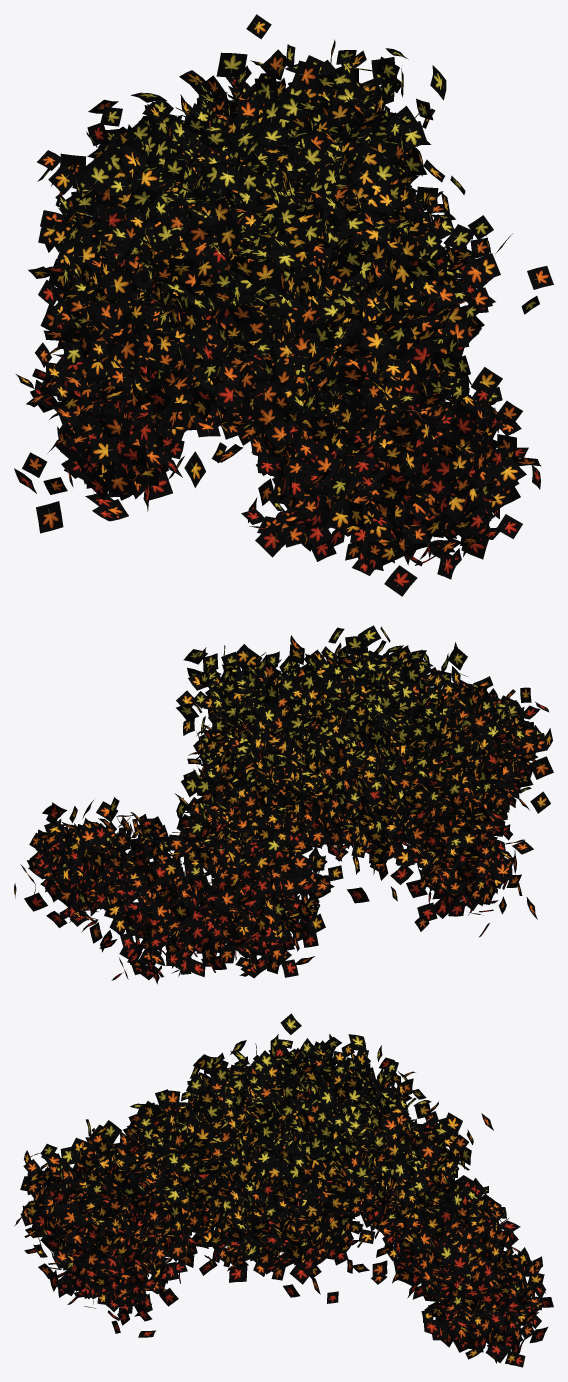
The model's file is Tree_Leaves.fbx.
The picture shows the model from 3 angles, top to bottom: view 1: azimuth 30°, elevation 25°; view 2: azimuth 150°, elevation 25°; view 3: azimuth 270°, elevation 25°; orthographic projection. The views are drawn at different scales.
Parts seen in each view (by area): view 1: Tree_Leaves; view 2: Tree_Leaves; view 3: Tree_Leaves.
Part boxes in pixels (x1=…): Tree_Leaves: x1=14, y1=14, x2=553, y2=596; Tree_Leaves: x1=14, y1=625, x2=553, y2=984; Tree_Leaves: x1=14, y1=1013, x2=553, y2=1367.
Size of the model in its own units: 3.32 by 2.35 by 4.08.
